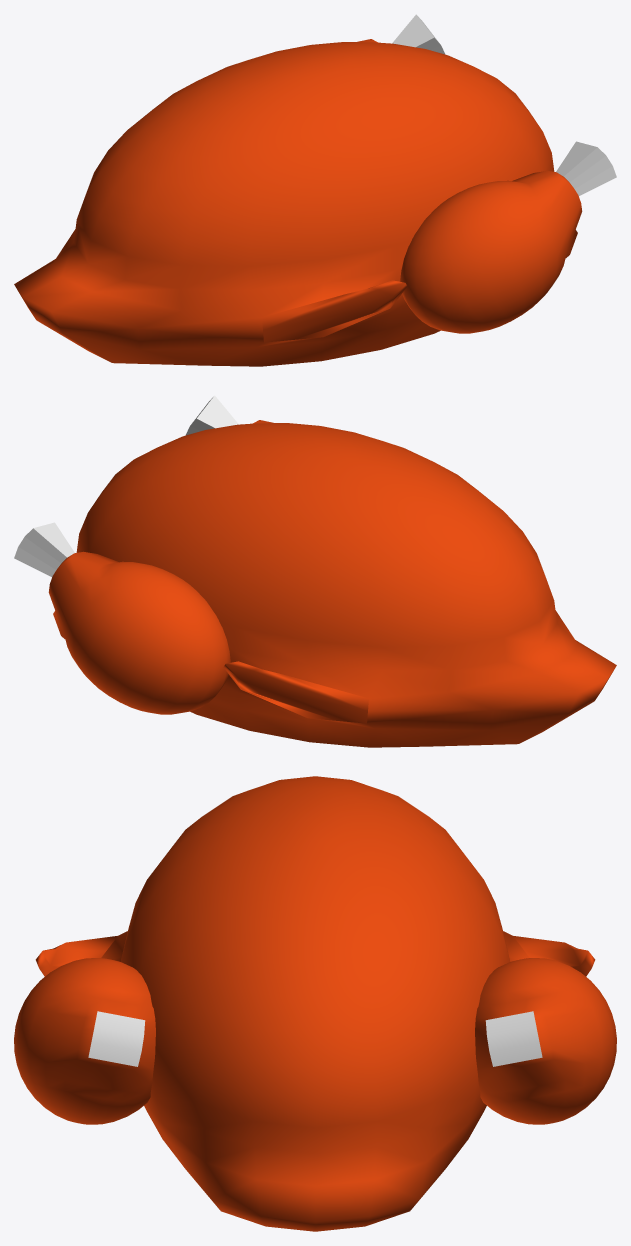
Rendered from Roast_Chicken_WM.fbx.
The picture shows the model from 3 angles, top to bottom: view 1: azimuth 30°, elevation 25°; view 2: azimuth 150°, elevation 25°; view 3: azimuth 270°, elevation 25°; orthographic projection. The views are drawn at different scales.
Parts seen in each view (by area): view 1: pSphere3; view 2: pSphere3; view 3: pSphere3.
Boxes of the visible parts, x1,y1,x2,y2 form: pSphere3: [14, 14, 616, 366]; pSphere3: [14, 395, 616, 747]; pSphere3: [14, 776, 616, 1231].
Size of the model in its own units: 4.39 by 1.84 by 3.52.
